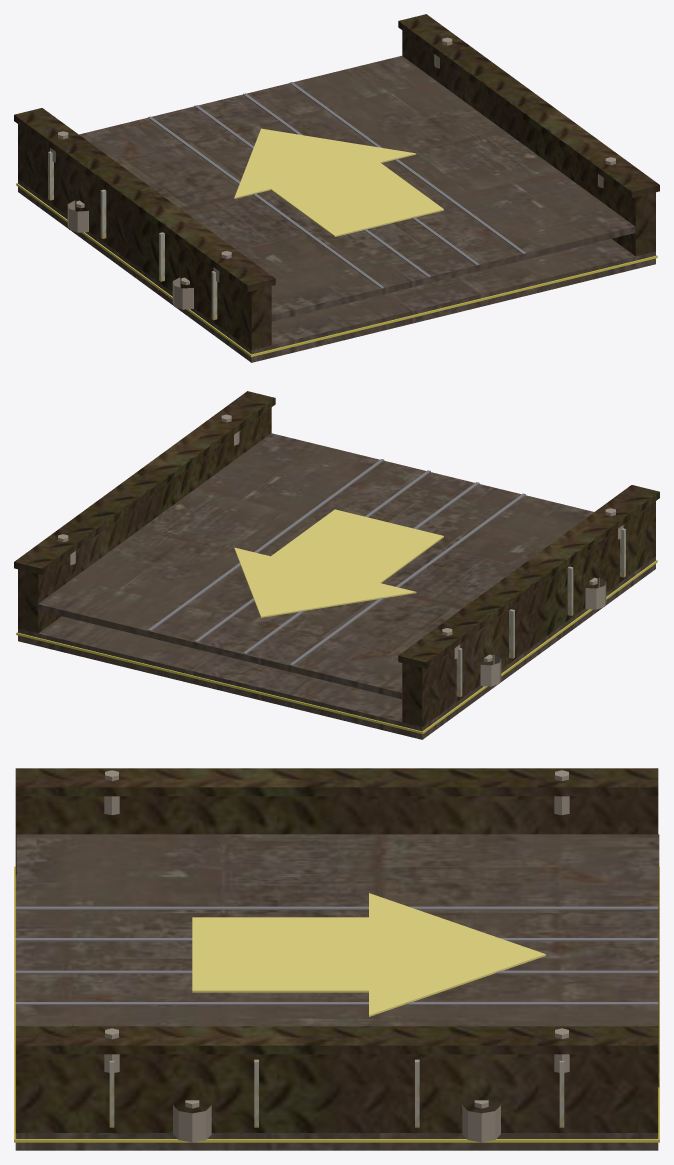
Rendered from conveyor.glb.
3 renders of one model, top to bottom at view 1: azimuth 30°, elevation 25°; view 2: azimuth 150°, elevation 25°; view 3: azimuth 270°, elevation 25°, orthographic. The views are drawn at different scales.
Parts seen in each view (by area): view 1: BeltSurface, BasePlate, Arrow_0, Wall_left, WallCap_right, WallCap_left, Wall_right, HazardStripe, BeltGroove_y0, BeltGroove_y3, Bolt_left_2, Bolt_left_3 (+2 smaller); view 2: BeltSurface, BasePlate, Arrow_0, Wall_left, WallCap_left, WallCap_right, Wall_right, HazardStripe, BeltGroove_y0, BeltGroove_y3, Bolt_left_3, Bolt_left_2 (+2 smaller); view 3: BeltSurface, Wall_right, Arrow_0, Wall_left, WallCap_left, WallCap_right, BasePlate, HazardStripe, BeltGroove_y0, BeltGroove_y3, BeltGroove_y2, BeltGroove_y1 (+2 smaller).
Part boxes in pixels (x1,y1,x2,y2): BeltSurface: [79, 55, 635, 321]; BasePlate: [18, 179, 655, 362]; Arrow_0: [234, 128, 443, 236]; Wall_left: [18, 124, 271, 350]; WallCap_right: [398, 14, 659, 197]; WallCap_left: [14, 108, 275, 291]; Wall_right: [402, 30, 655, 256]; HazardStripe: [16, 183, 657, 357]; BeltGroove_y0: [148, 116, 384, 288]; BeltGroove_y3: [289, 82, 525, 254]; Bolt_left_2: [172, 277, 193, 309]; Bolt_left_3: [67, 200, 88, 232]; BeltSurface: [38, 433, 593, 699]; BasePlate: [18, 556, 655, 739]; Arrow_0: [234, 509, 443, 617]; Wall_left: [402, 501, 655, 727]; WallCap_left: [398, 485, 659, 668]; WallCap_right: [14, 391, 275, 574]; Wall_right: [18, 407, 271, 633]; HazardStripe: [16, 560, 657, 734]; BeltGroove_y0: [289, 493, 525, 665]; BeltGroove_y3: [148, 459, 384, 631]; Bolt_left_3: [480, 654, 501, 686]; Bolt_left_2: [585, 577, 606, 609]; BeltSurface: [16, 834, 659, 1087]; Wall_right: [15, 1054, 658, 1132]; Arrow_0: [192, 893, 545, 1016]; Wall_left: [15, 796, 658, 874]; WallCap_left: [15, 768, 658, 796]; WallCap_right: [15, 1026, 658, 1054]; BasePlate: [15, 875, 658, 1150]; HazardStripe: [14, 866, 659, 1142]; BeltGroove_y0: [15, 906, 658, 909]; BeltGroove_y3: [15, 1002, 658, 1004]; BeltGroove_y2: [15, 970, 658, 973]; BeltGroove_y1: [15, 938, 658, 941].
Size of the model in its own units: 1.06 by 0.1925 by 1.
20 materials, 16 textured.
